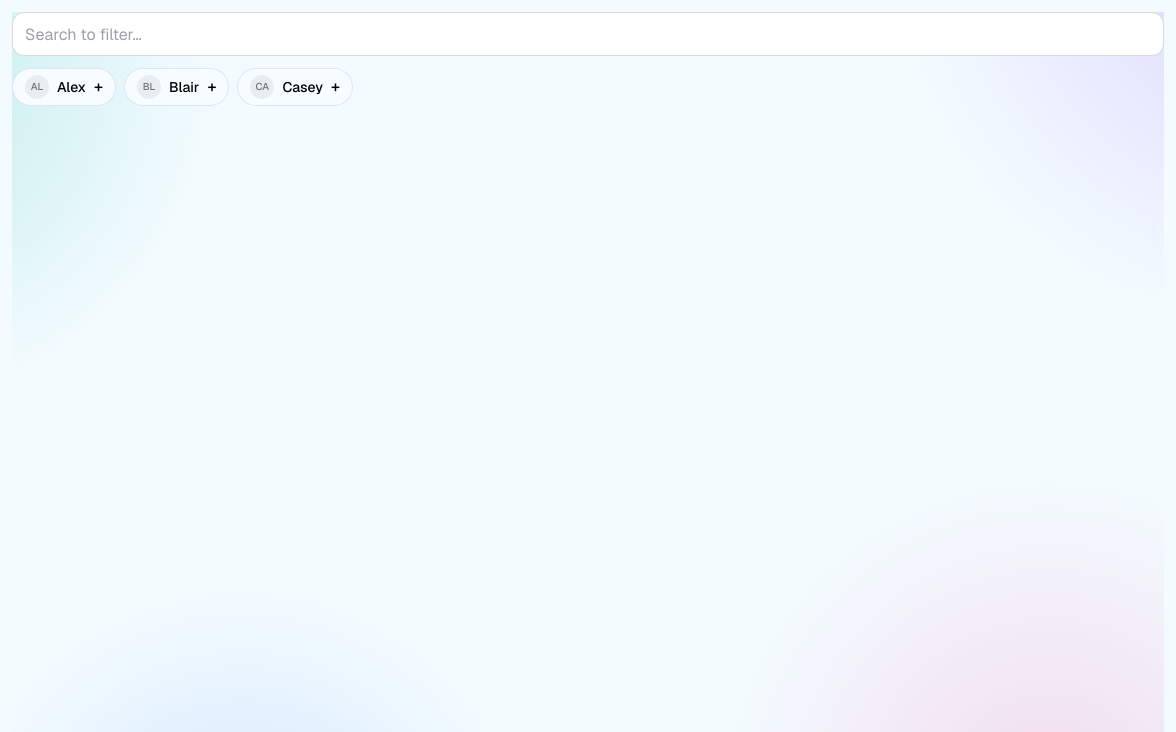
Test case: PlayerChipGrid › shows an empty state when nothing matches the search
Type "zzz" into the search field at (588, 34), box [12, 12, 1164, 56]
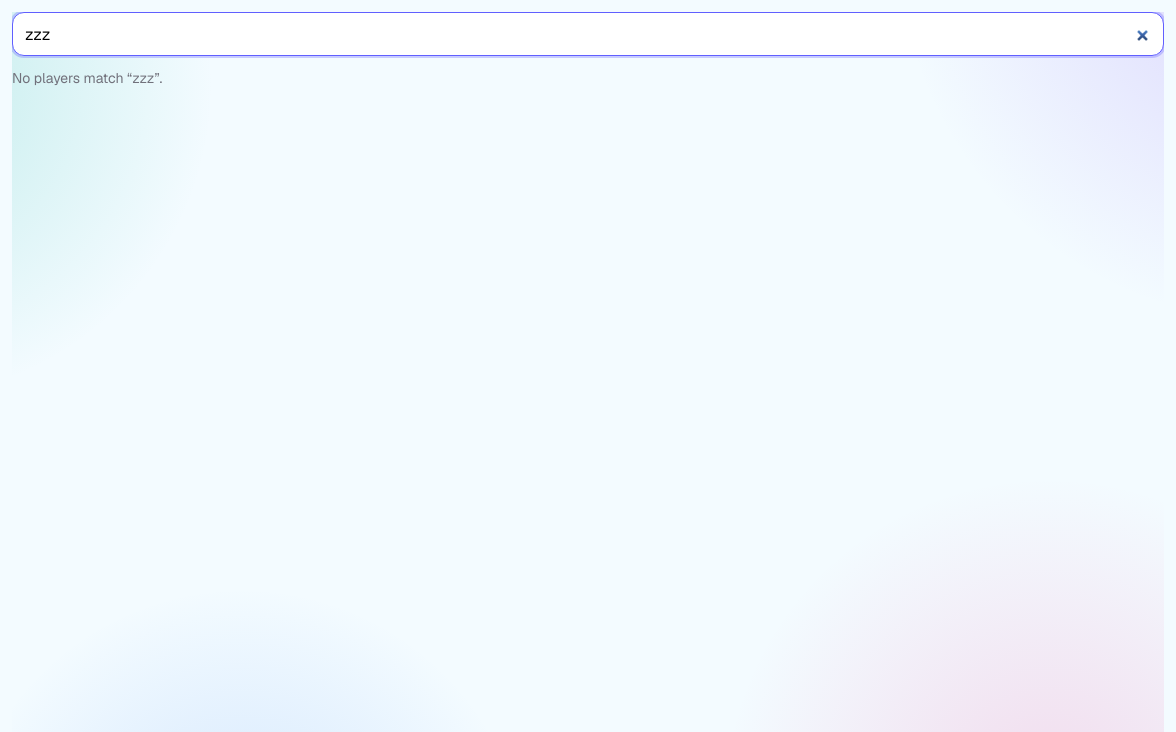
Result: the text "No players match “zzz”." is shown at [12, 68, 162, 88]
